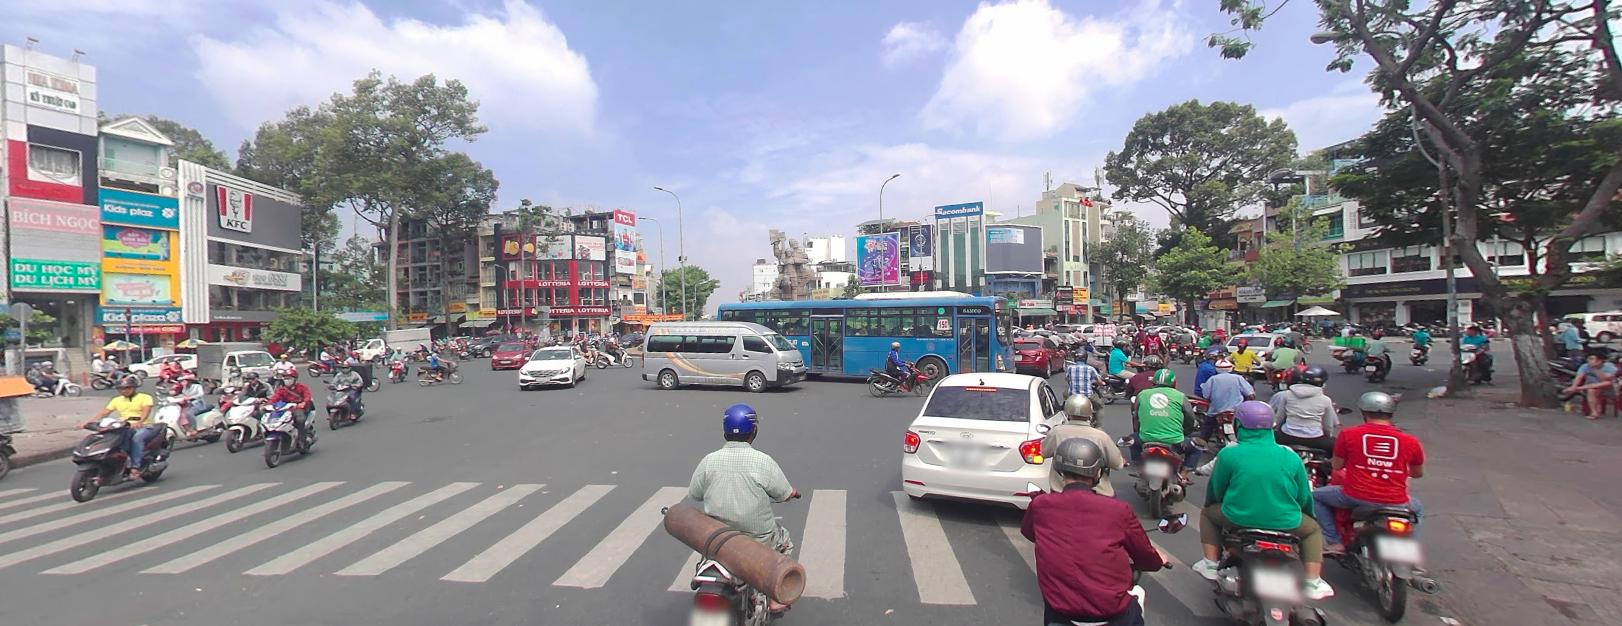Cam nguoc chieu: (1075, 302, 1080, 307)
Hieu lenh: (1076, 308, 1081, 312)
